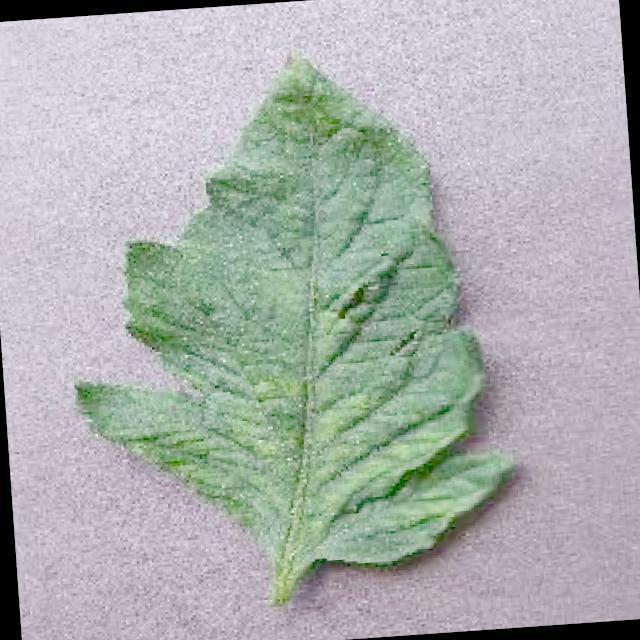Tomato mosaic virus leaf: (55, 36, 520, 581)
